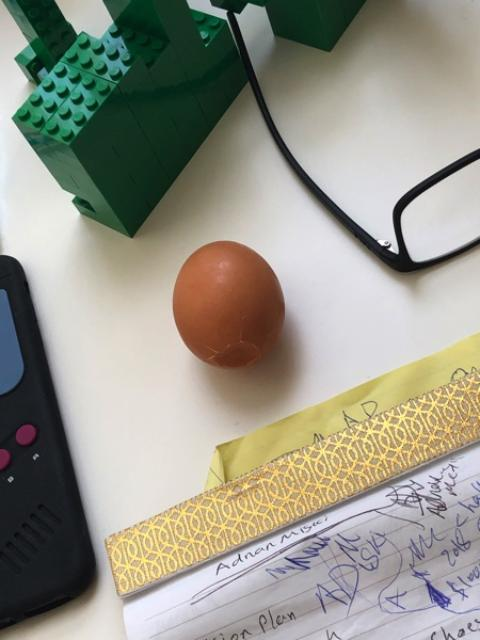Roto: (171, 239, 286, 369)
